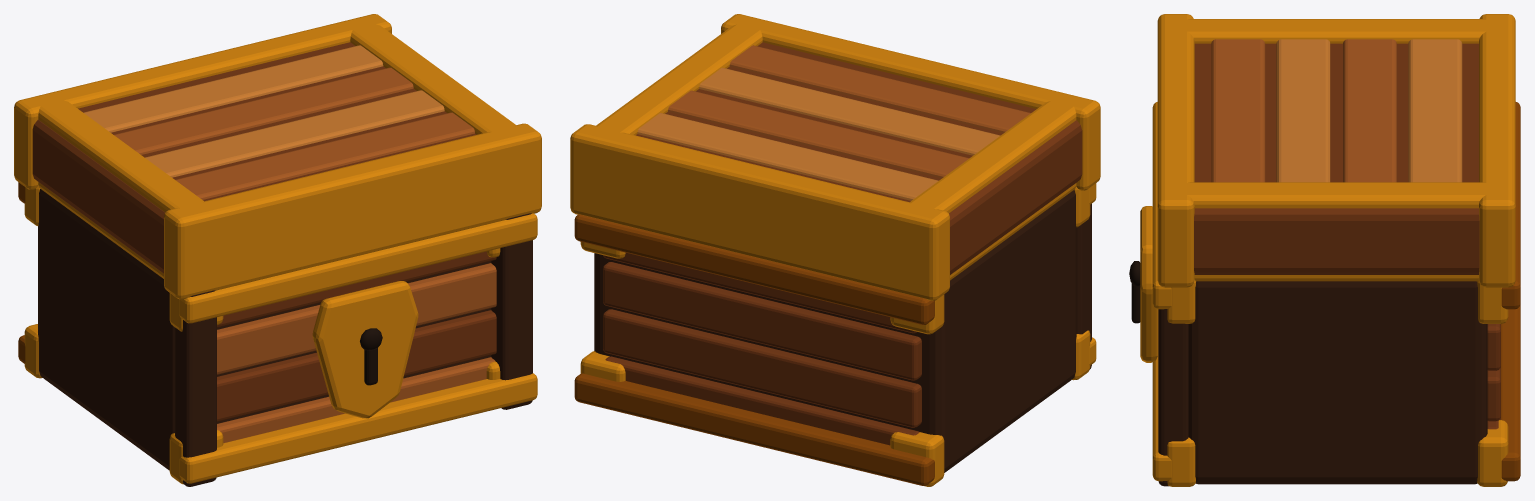
The model's file is itm-box-closed.glb.
3 views of the same model, side by side, from view 1: azimuth 30°, elevation 25°; view 2: azimuth 150°, elevation 25°; view 3: azimuth 270°, elevation 25° (orthographic). The views are drawn at different scales.
Parts seen in each view (by area): view 1: itm-box-closed; view 2: itm-box-closed; view 3: itm-box-closed.
Boxes of the visible parts, <box> form: itm-box-closed: <box>14,14,541,486</box>; itm-box-closed: <box>570,14,1100,486</box>; itm-box-closed: <box>1129,14,1520,486</box>.
Bounding box in the file's own units: 0.368 × 0.26 × 0.318.
